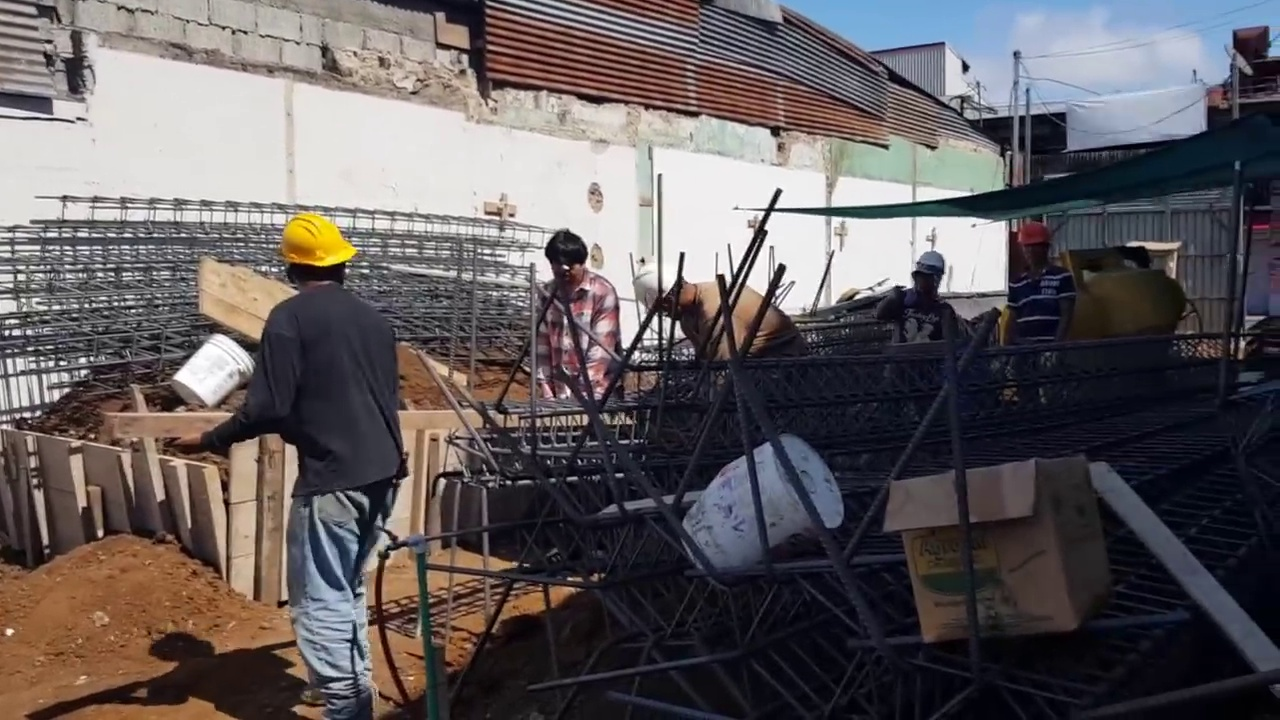helmet: (274, 212, 360, 268), (631, 257, 685, 315), (1017, 221, 1051, 246), (914, 249, 946, 273)
helmet-off: (543, 227, 589, 292)
helmet-on: (274, 213, 362, 296), (630, 254, 702, 327), (1018, 220, 1053, 272), (910, 248, 947, 295)
person: (169, 208, 412, 720), (630, 255, 810, 368), (534, 227, 620, 404), (1006, 219, 1077, 358), (877, 247, 959, 348)
